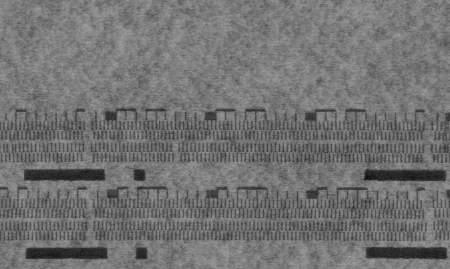Broken hole: (170, 142, 184, 163)
